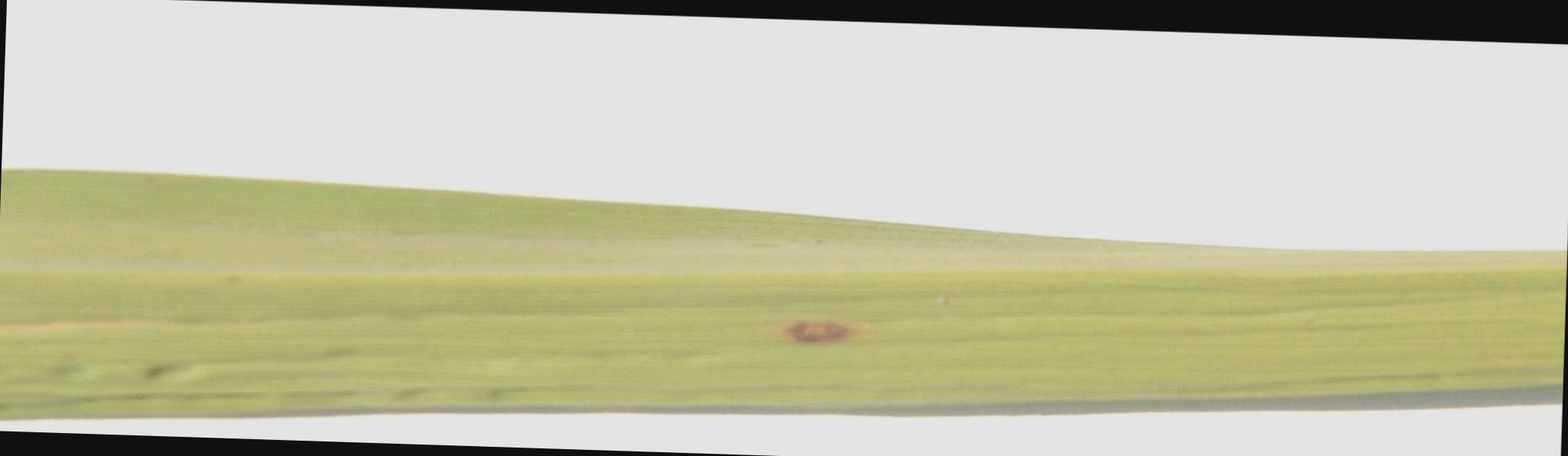Bacterial_Leaf_Blight: (770, 296, 894, 358)
